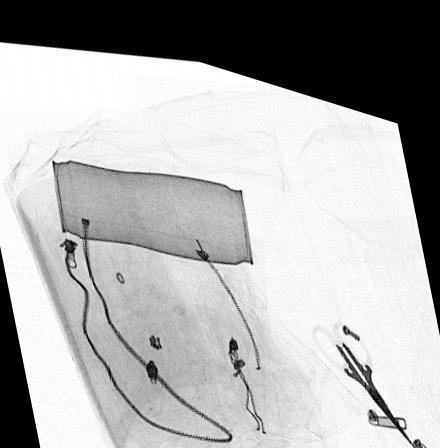Scissors: (307, 296, 418, 426)
